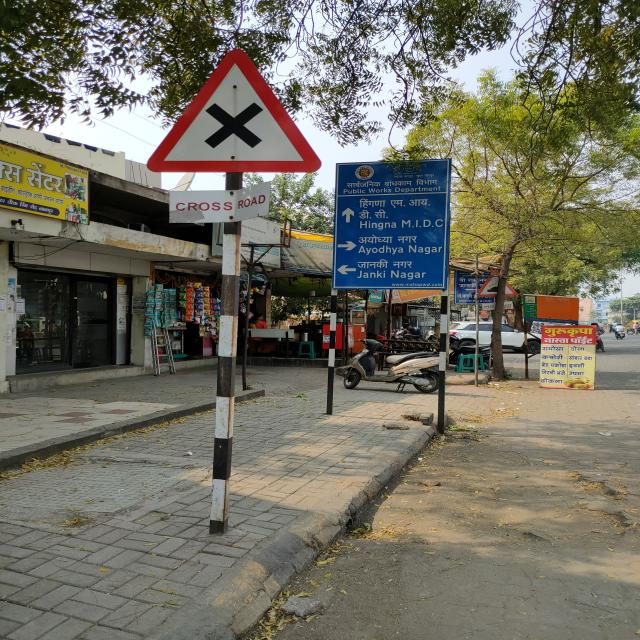CROSS_ROAD: (140, 49, 325, 183)
